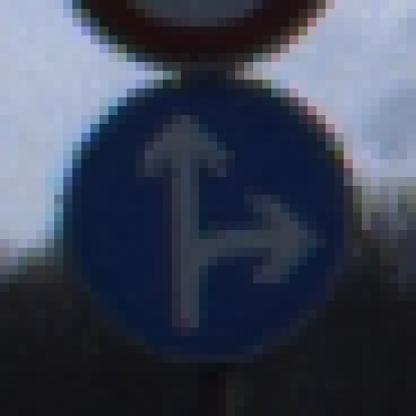Straight or Right: (46, 54, 372, 373)
